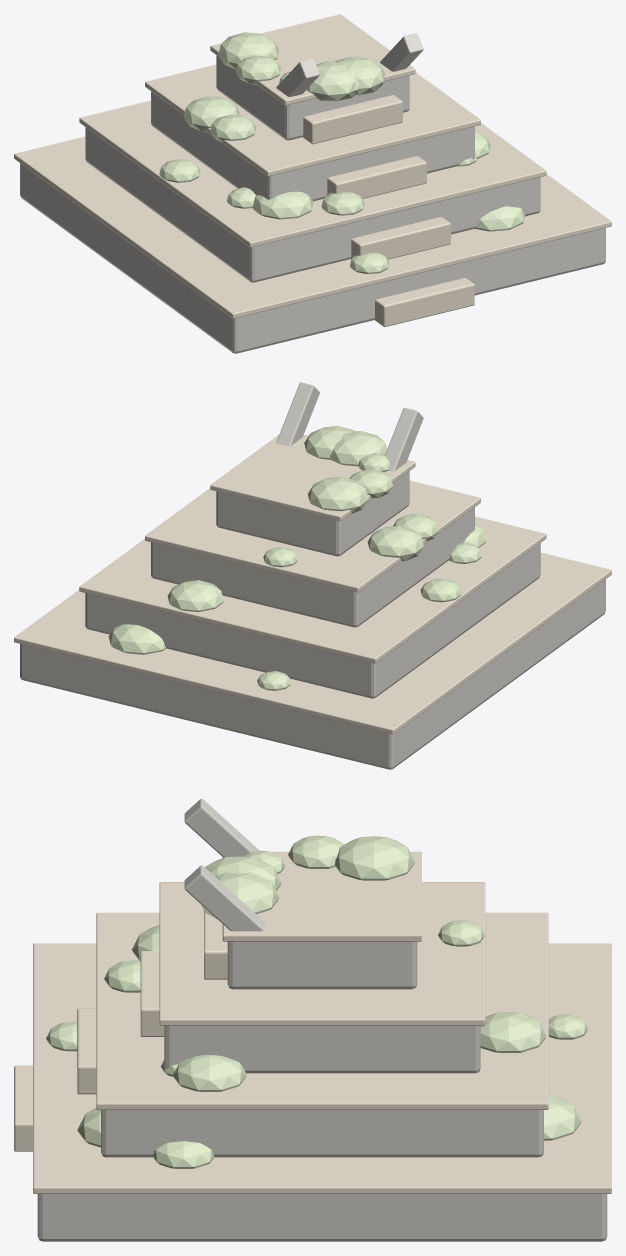
File: lm_mexico_platform.glb
3 renders of one model, top to bottom at view 1: azimuth 30°, elevation 25°; view 2: azimuth 150°, elevation 25°; view 3: azimuth 270°, elevation 25°, orthographic. The views are drawn at different scales.
Visible parts, largest first — view 1: lm_mexico_platform; view 2: lm_mexico_platform; view 3: lm_mexico_platform.
Part boxes in pixels (x1,y1,x2,y2): lm_mexico_platform: (14,14,611,353); lm_mexico_platform: (14,382,611,769); lm_mexico_platform: (14,798,611,1241).
Bounding box in the file's own units: 9.15 × 5.01 × 9.45.
